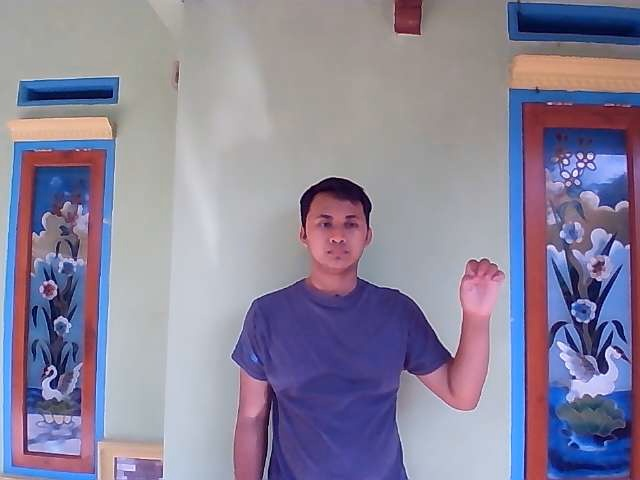E: (450, 254, 509, 333)
